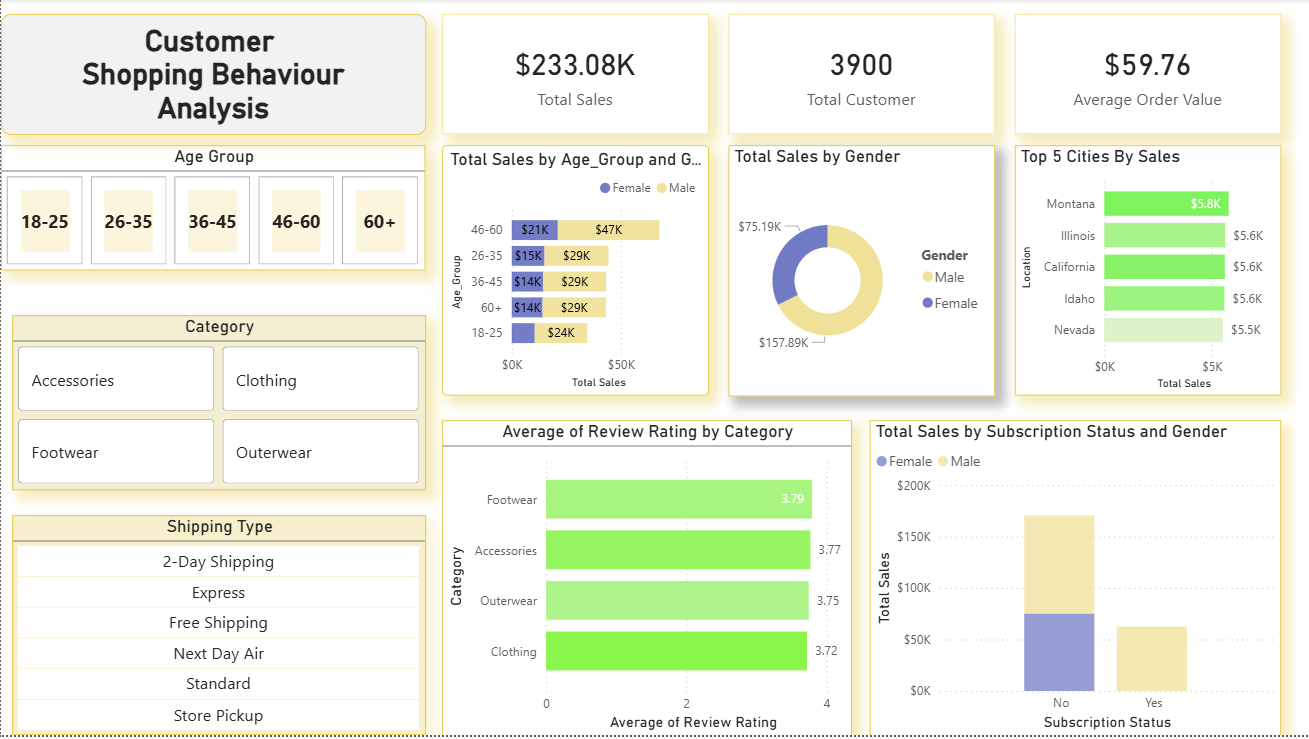

Layout of this report page (visuals, bound fields, positions):
{"tool":"powerbi","page":{"name":"Page 1","canvas":[1280,720],"ordinal":0},"visuals":[{"type":"card","fields":{"Values":["customer_shopping_behavior (1).Total Sales"]},"box":[431.9,14.6,260.7,117.7],"z":0},{"type":"card","fields":{"Values":["customer_shopping_behavior (1).Total Customer"]},"box":[712,14.6,260.7,117.7],"z":1000},{"type":"card","fields":{"Values":["customer_shopping_behavior (1).Total Order"]},"box":[991.1,14.6,260.7,117.7],"z":2000},{"type":"barChart","fields":{"Category":["Sales.Age_Group"],"Y":["Sales.Total Sales"],"Series":["Sales.Gender"]},"box":[431.9,143,260.7,245.1],"z":3000},{"type":"donutChart","fields":{"Category":["Sales.Gender"],"Y":["Sales.Total Sales"]},"box":[712.2,142.7,260.7,245.6],"z":4000},{"type":"barChart","title":"Top 5 Cities By Sales","fields":{"Category":["Sales.Location"],"Y":["Sales.Total Sales"]},"box":[991.1,143,260.7,245.1],"z":5000},{"type":"advancedSlicerVisual","title":"Age Group","fields":{"Values":["Sales.Age_Group"]},"box":[0,143,415.3,122.6],"z":6000},{"type":"advancedSlicerVisual","fields":{"Values":["Sales.Category"]},"box":[10.7,309.3,404.6,171.2],"z":7000},{"type":"listSlicer","fields":{"Values":["Sales.Shipping Type"]},"box":[11,505,404.8,215.4],"z":8000},{"type":"barChart","fields":{"Category":["Sales.Category"],"Y":["Avg(Sales.Review Rating)"]},"box":[432.2,411.7,400.7,308.7],"z":9000},{"type":"columnChart","fields":{"Y":["Sales.Total Sales"],"Category":["Sales.Subscription Status"],"Series":["Sales.Gender"]},"box":[849.4,411.7,402.1,308.7],"z":9001},{"type":"textbox","box":[0,15.1,415.8,118],"z":9002}]}

Visuals, with their boxes in screenshot pixels (x1, y1, x2, y2), scaled from the page's 1280x720 canvas onto the 1309x739 screenshot:
card - customer_shopping_behavior (1).Total Sales: (442, 15, 708, 136)
card - customer_shopping_behavior (1).Total Customer: (728, 15, 995, 136)
card - customer_shopping_behavior (1).Total Order: (1014, 15, 1280, 136)
barChart - Sales.Age_Group x Sales.Total Sales: (442, 147, 708, 398)
donutChart - Sales.Gender x Sales.Total Sales: (728, 146, 995, 399)
"Top 5 Cities By Sales" barChart: (1014, 147, 1280, 398)
"Age Group" advancedSlicerVisual: (0, 147, 425, 273)
advancedSlicerVisual - Sales.Category: (11, 317, 425, 493)
listSlicer - Sales.Shipping Type: (11, 518, 425, 738)
barChart - Sales.Category x Avg(Sales.Review Rating): (442, 423, 852, 738)
columnChart - Sales.Total Sales x Sales.Subscription Status: (869, 423, 1280, 738)
textbox: (0, 15, 425, 137)
